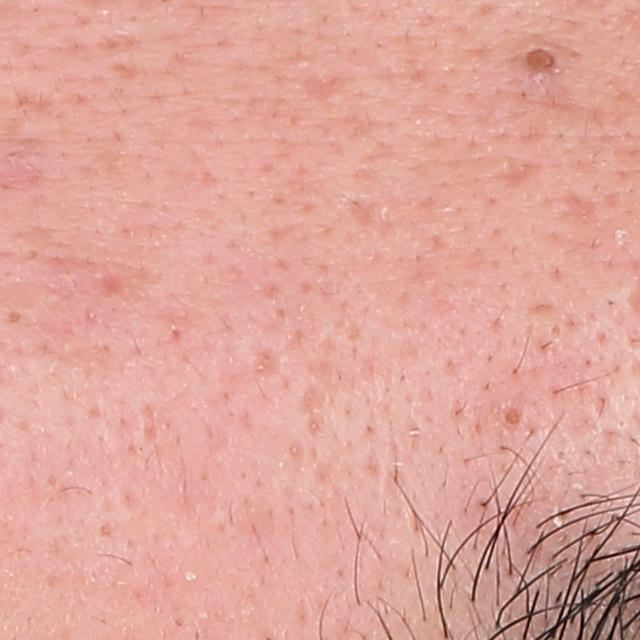atrophic_scar: (267, 57, 352, 111), (541, 186, 601, 231), (495, 153, 545, 187), (254, 346, 288, 379)
comedo: (515, 42, 560, 79), (494, 401, 525, 431), (7, 310, 23, 327)
